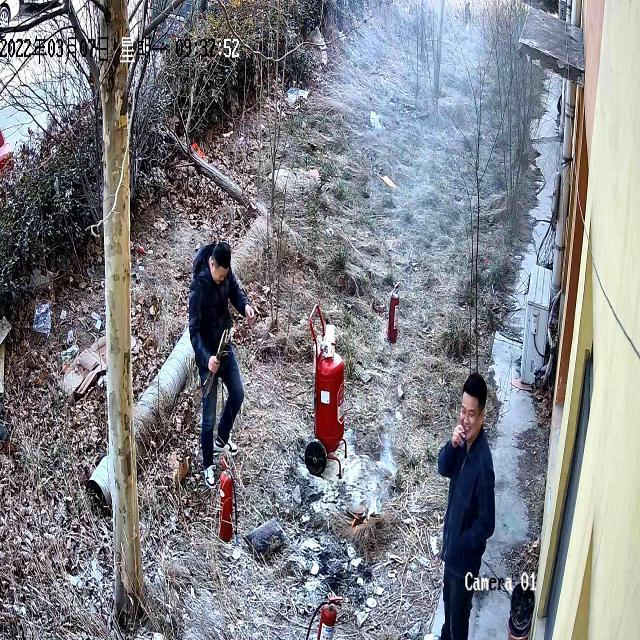Smoke: (326, 4, 552, 314), (374, 428, 407, 490)
